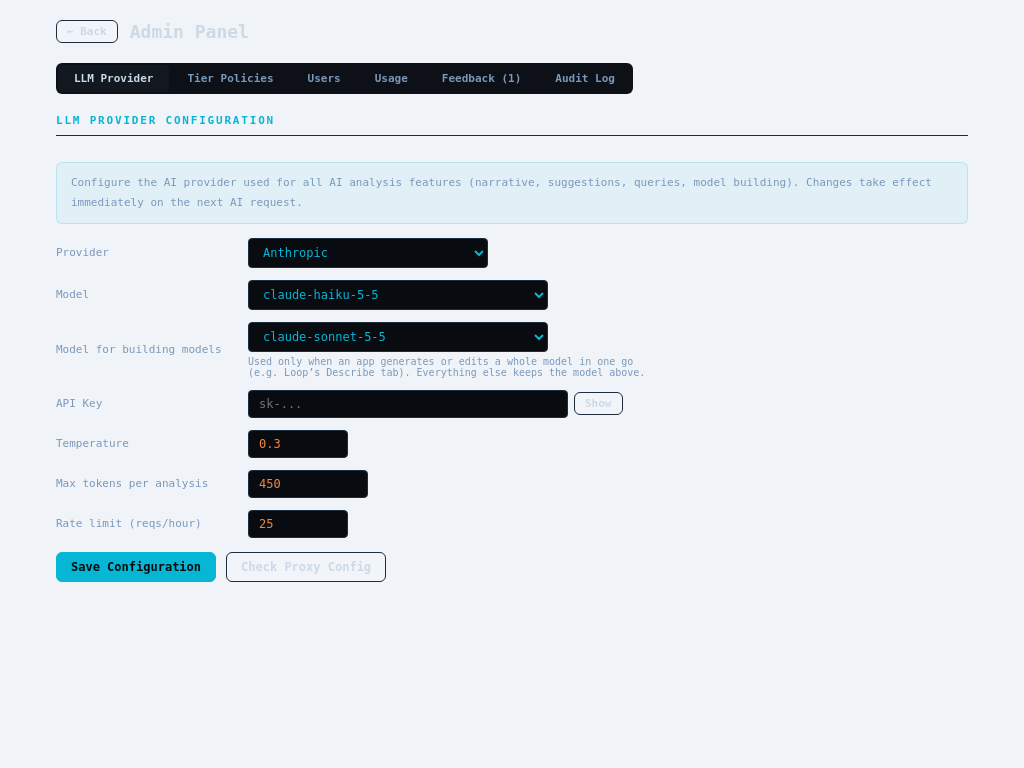
LLM settings — proxy status check › Check Proxy Config shows key status from hasApiKey=false without any part of the key
What coordinates should you click on to do the following:
click the button "Check Proxy Config"
I would click on:
 (306, 567)
Its box is [226,552,386,582].
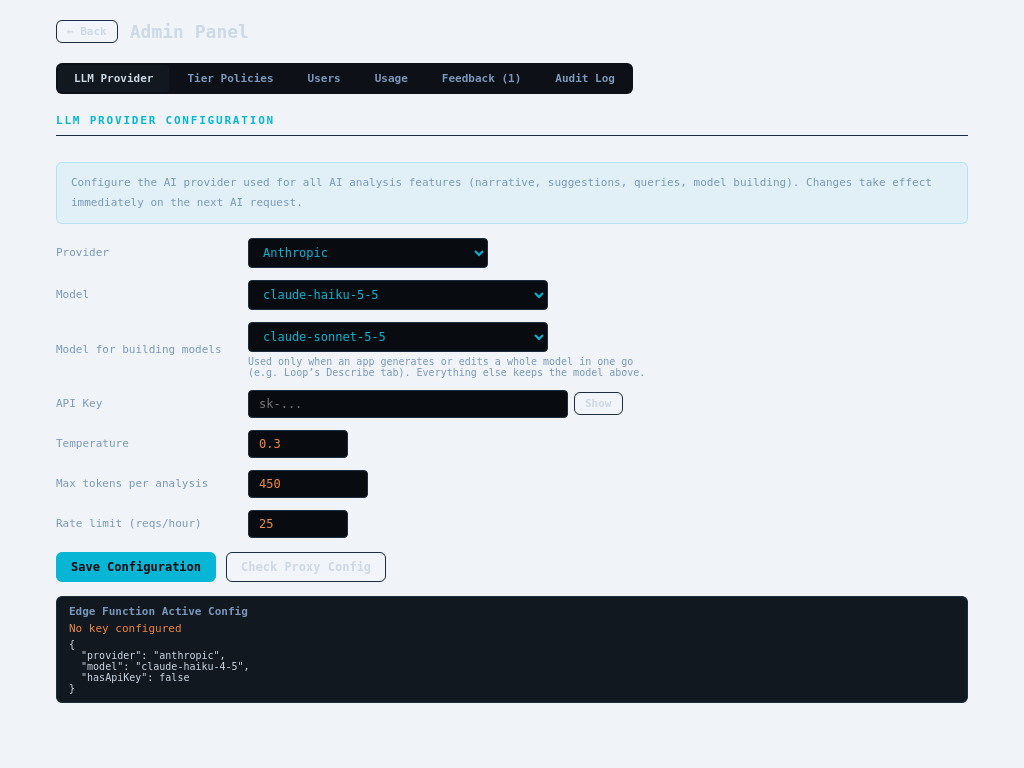
Expected: the text "No key configured" is shown, [69,622,182,635]
